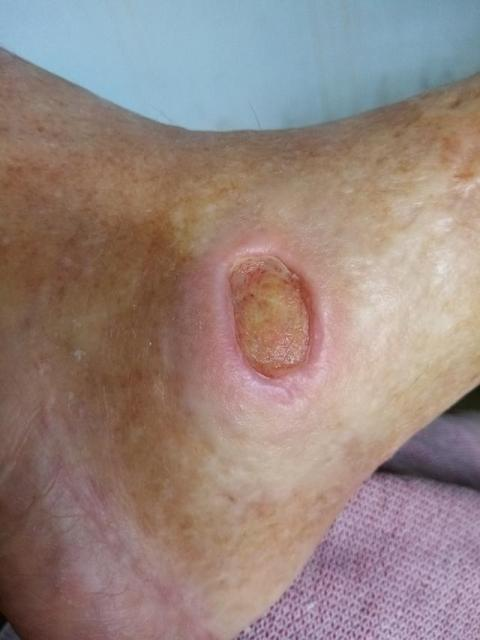wound: (224, 252, 322, 384)
